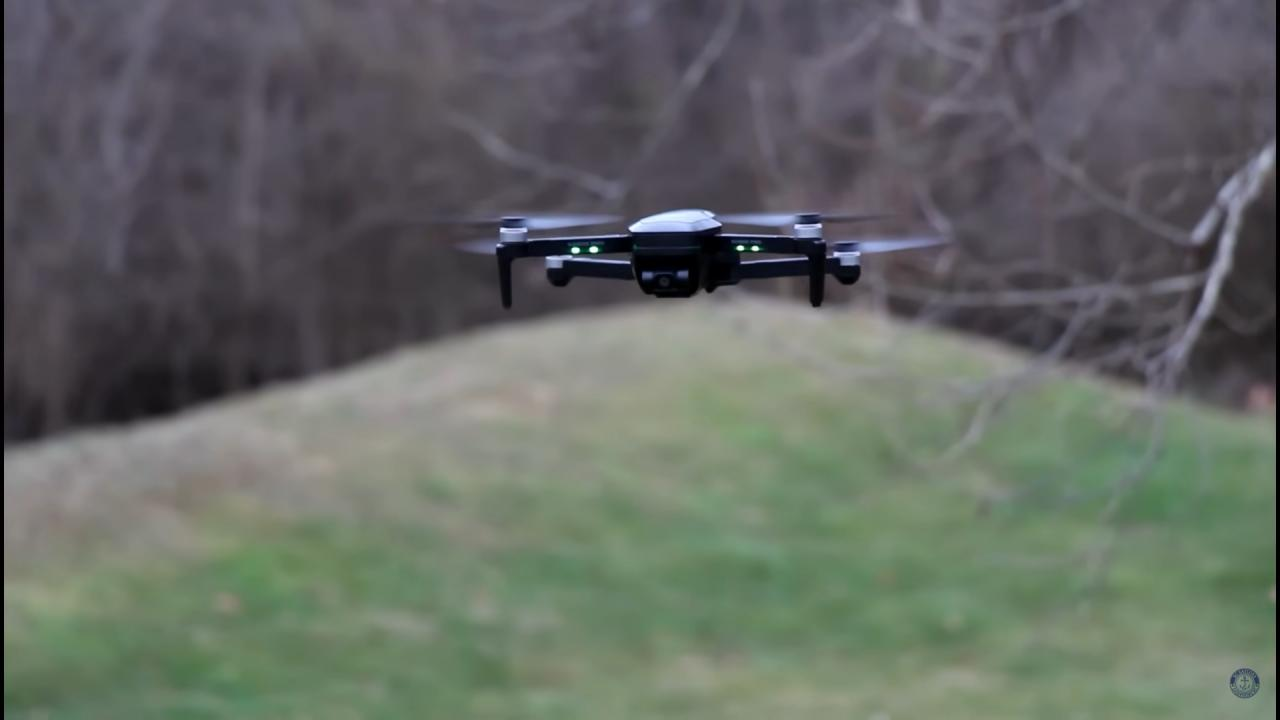Drone: (363, 180, 983, 330)
